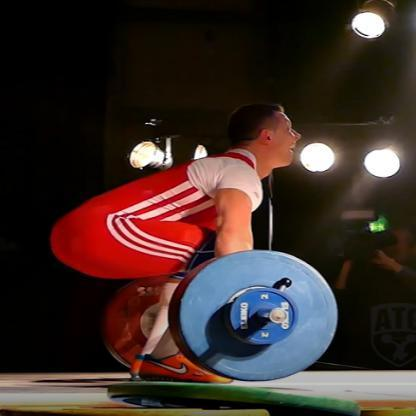barbell: (101, 247, 340, 383)
